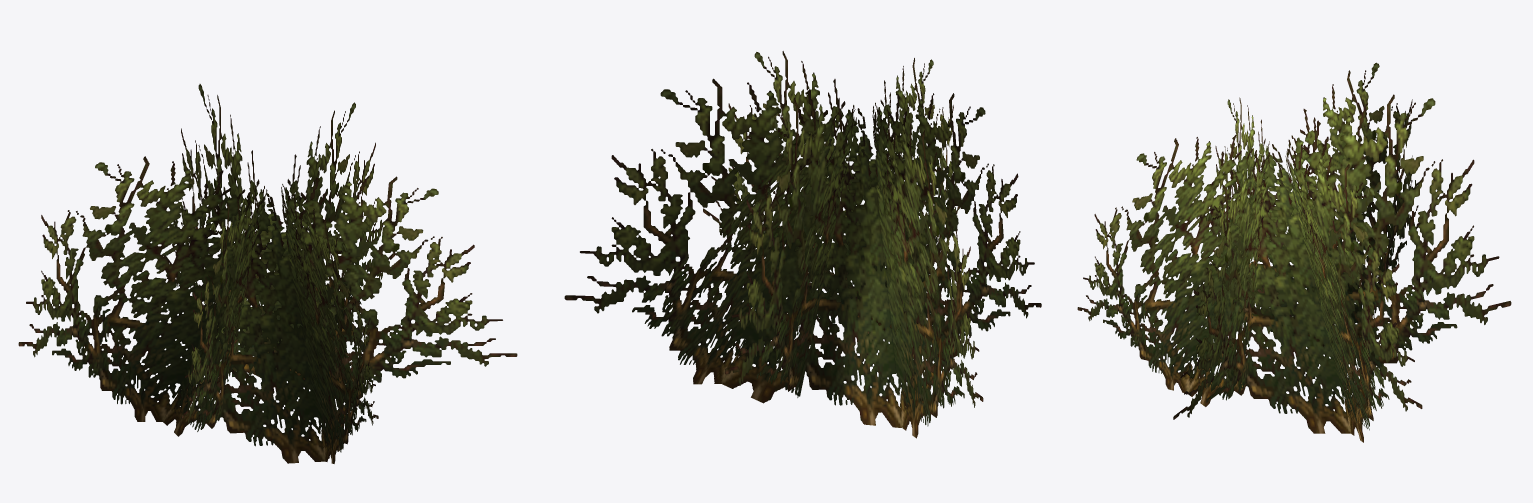
The model's file is duskwoodbush07.obj.
3 renders of one model, left to right at view 1: azimuth 30°, elevation 25°; view 2: azimuth 150°, elevation 25°; view 3: azimuth 270°, elevation 25°, orthographic. The views are drawn at different scales.
Parts seen in each view (by area): view 1: DUSKWOODBUSH070; view 2: DUSKWOODBUSH070; view 3: DUSKWOODBUSH070.
Part boxes in pixels (x1,y1,x2,y2): DUSKWOODBUSH070: [18, 84, 517, 463]; DUSKWOODBUSH070: [564, 51, 1041, 438]; DUSKWOODBUSH070: [1077, 62, 1511, 442].
Size of the model in its own units: 4.01 by 3.26 by 3.96.
Materials: 1 (1 with a texture image).
